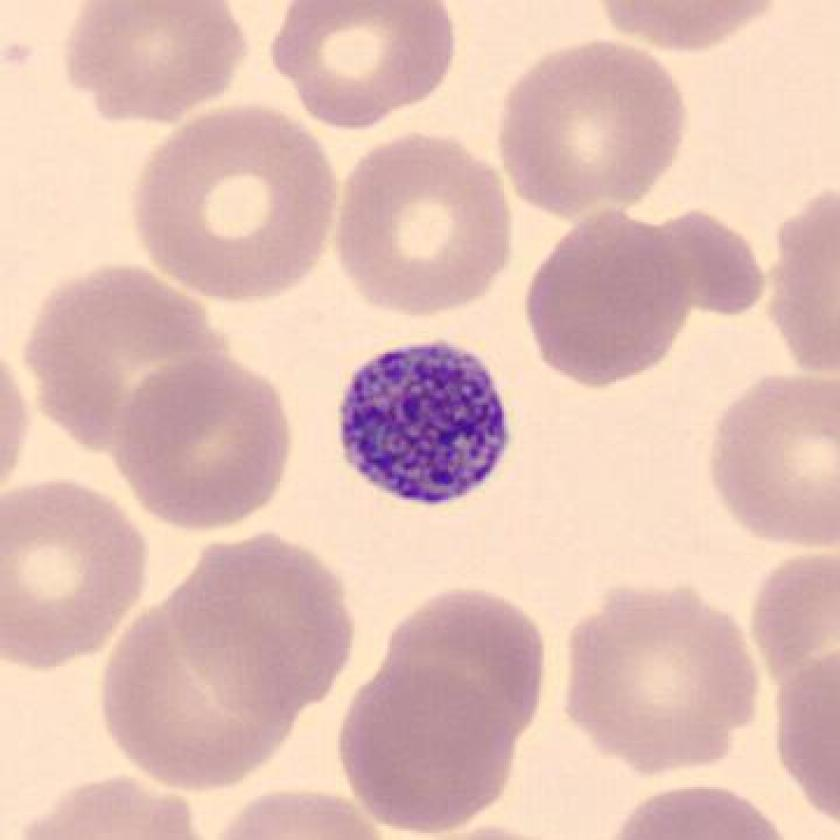platelets: (330, 332, 512, 519)
